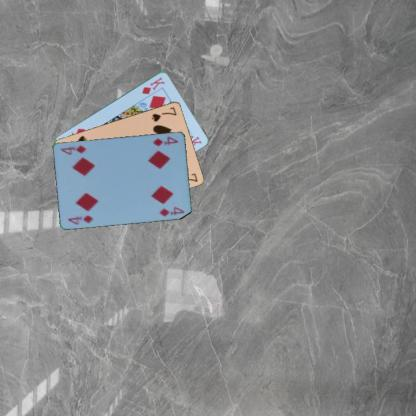4d: (66, 212, 95, 226), (150, 134, 180, 147)
7s: (149, 104, 178, 122)
Kd: (139, 74, 166, 95)
